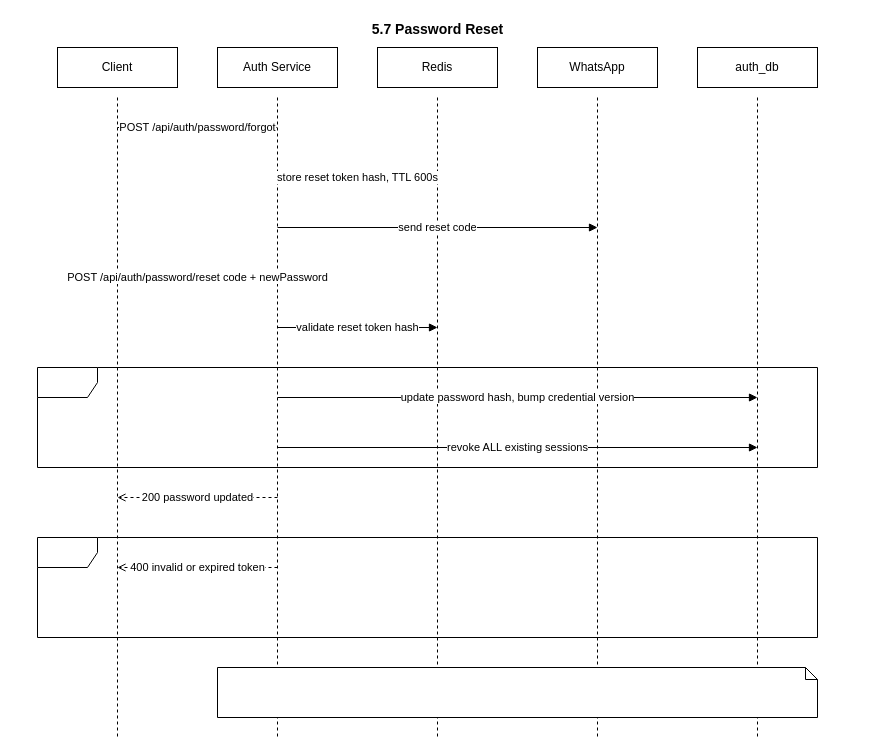
Image size: 874x756. Some labels were removed from this diagram. Each missing label, with the centre of its shape:
A successful reset force-logs-out every active session: the point at 517,692
alt valid: the point at 427,417
else invalid or expired: the point at 427,587
